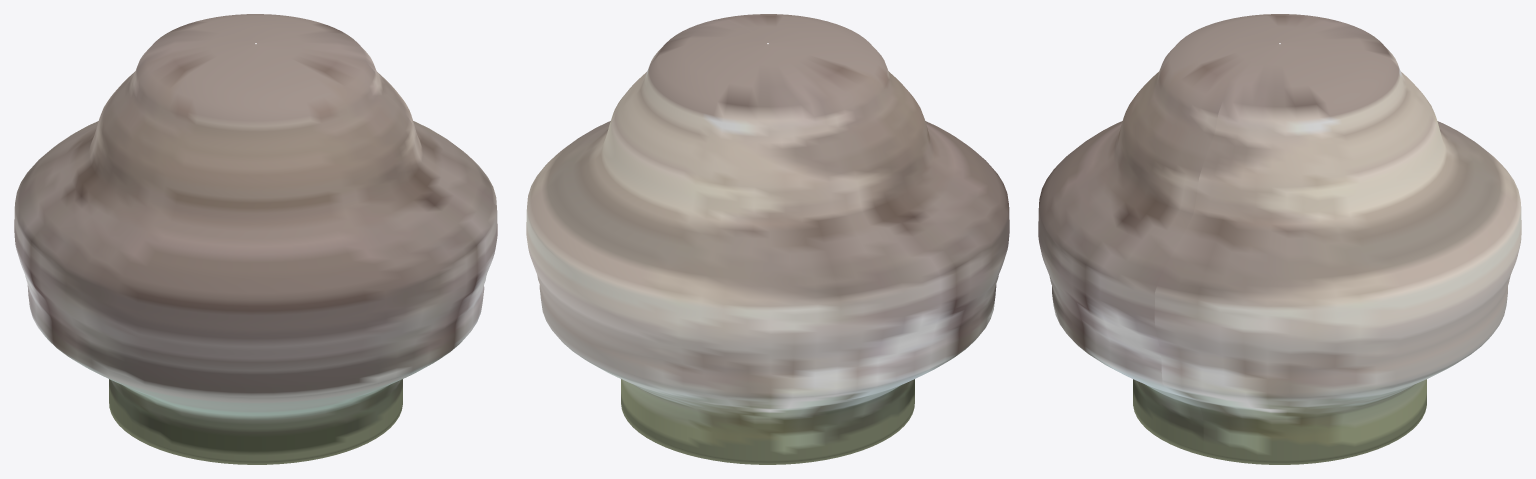
The model's file is stone-0.glb.
3 views of the same model, side by side, from view 1: azimuth 30°, elevation 25°; view 2: azimuth 150°, elevation 25°; view 3: azimuth 270°, elevation 25° (orthographic).
Visible parts, largest first — view 1: stone-0; view 2: stone-0; view 3: stone-0.
Boxes of the visible parts, <box> form: stone-0: <box>14,14,497,464</box>; stone-0: <box>526,14,1009,464</box>; stone-0: <box>1038,14,1521,464</box>.
Size of the model in its own units: 0.4487 by 0.3679 by 0.4487.
